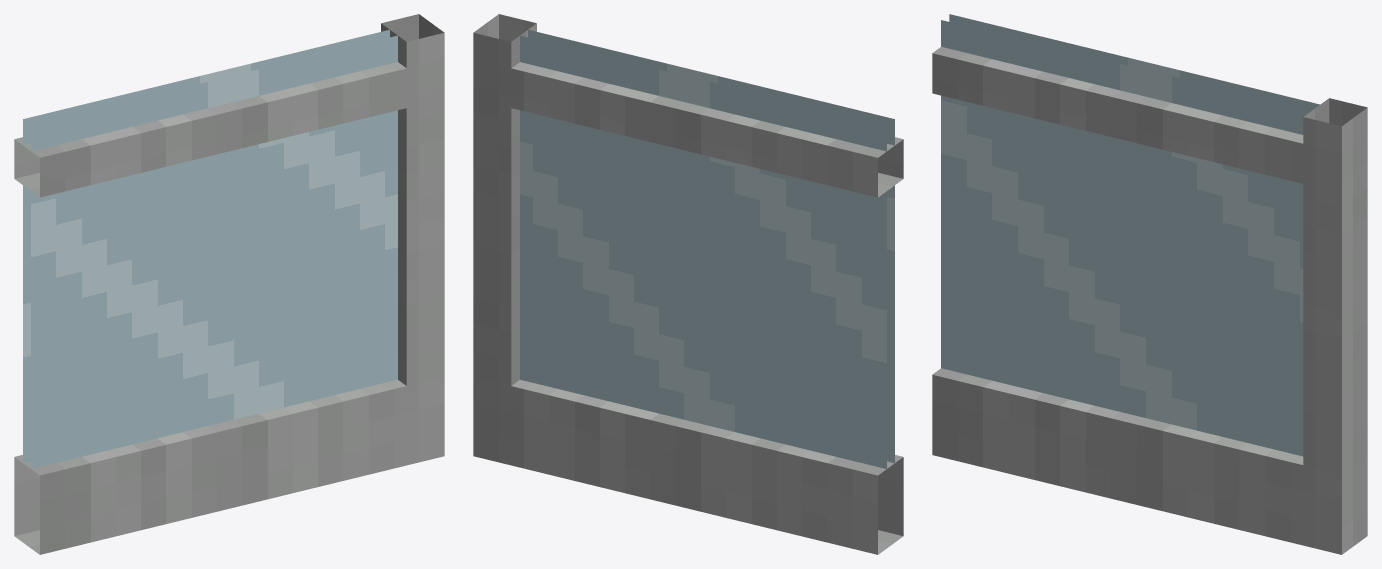
Rendered from auto_door_wide_slider_stainless_c1_lower_left_open.obj.
The picture shows the model from 3 angles, left to right: view 1: azimuth 30°, elevation 25°; view 2: azimuth 150°, elevation 25°; view 3: azimuth 330°, elevation 25°; orthographic projection.
Visible parts, largest first — view 1: auto_door_wide_slider_stainless_c1_lower_left_open; view 2: auto_door_wide_slider_stainless_c1_lower_left_open; view 3: auto_door_wide_slider_stainless_c1_lower_left_open.
Part boxes in pixels (x1,y1,x2,y2): auto_door_wide_slider_stainless_c1_lower_left_open: (14, 14, 444, 554); auto_door_wide_slider_stainless_c1_lower_left_open: (473, 14, 903, 554); auto_door_wide_slider_stainless_c1_lower_left_open: (932, 14, 1367, 554).
Bounding box in the file's own units: 1 × 1 × 0.1094.
